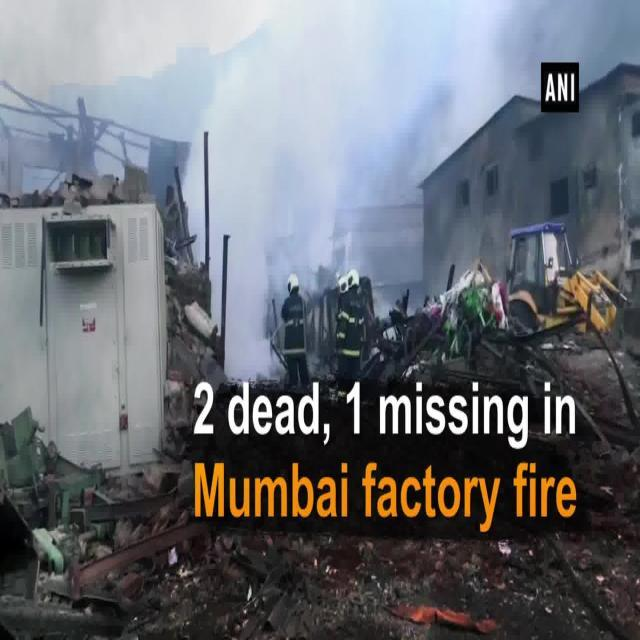Smoke: (192, 0, 382, 368)
